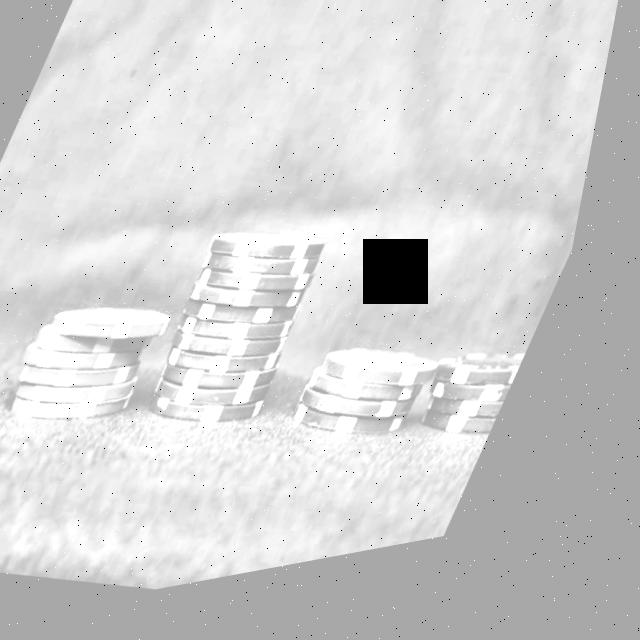Chip: (139, 205, 367, 474), (3, 265, 205, 466), (290, 328, 471, 487), (411, 336, 552, 483)
